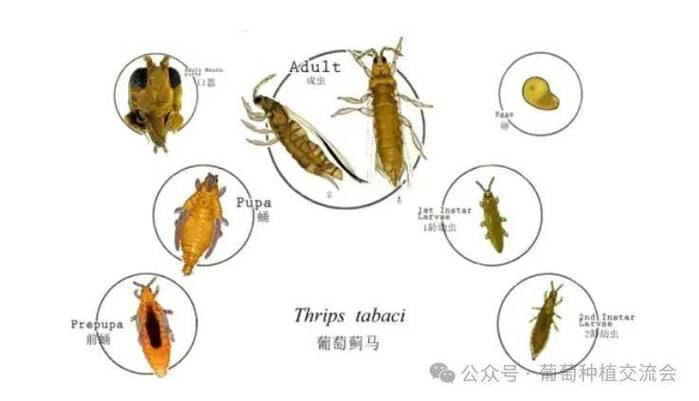Thripidae: (240, 72, 365, 194), (332, 40, 431, 186)
